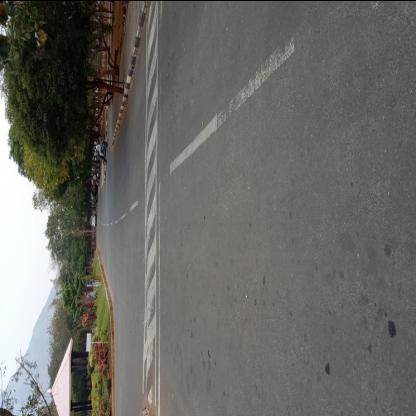speed-bumps: (133, 1, 164, 415)
